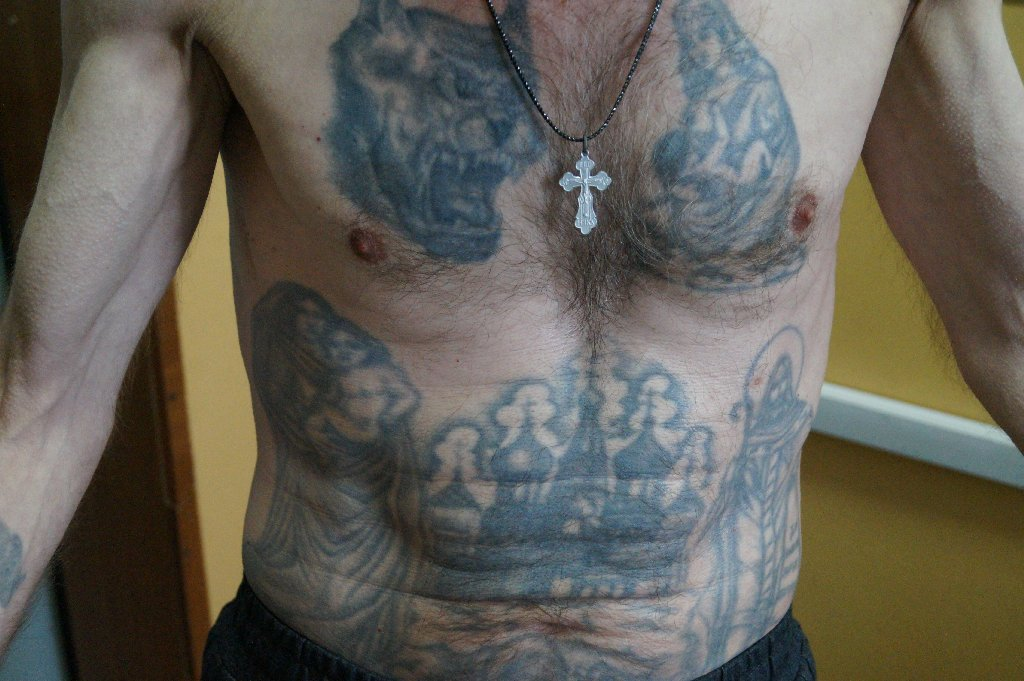tatu2_bogorodica: (238, 268, 440, 680), (629, 1, 829, 316)
tatu8_kot: (312, 3, 561, 284)
